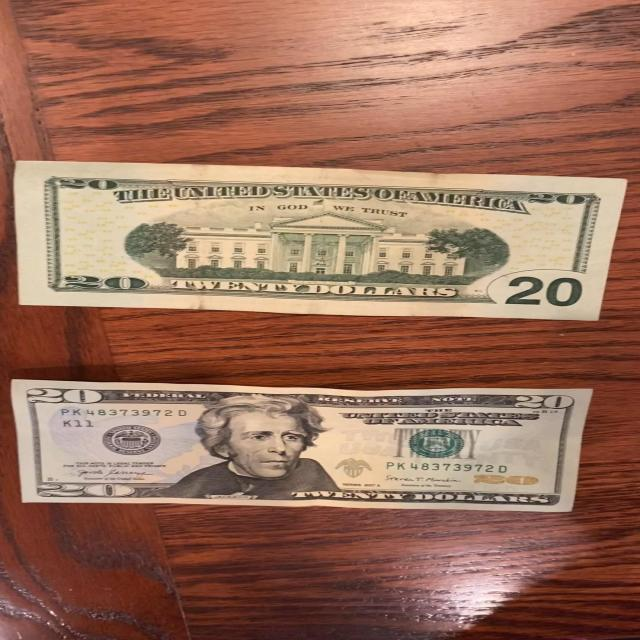20-Back: (10, 160, 632, 323)
20-Front: (8, 379, 600, 514)
